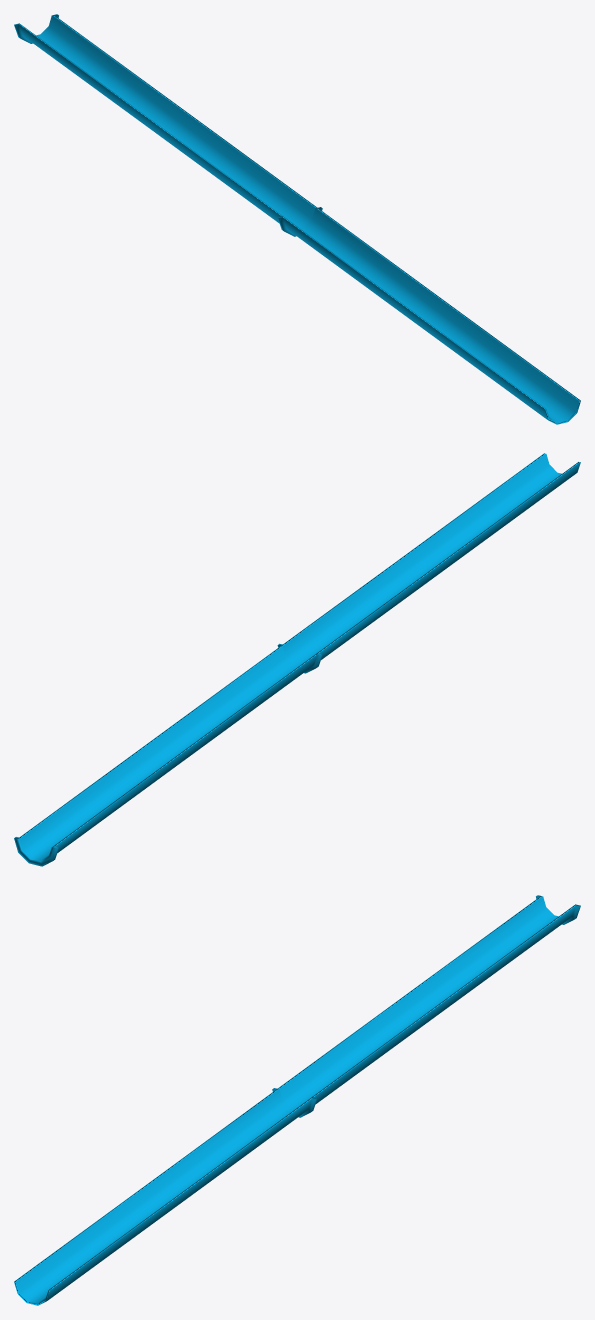
The model's file is Gutter_03.fbx.
3 renders of one model, top to bottom at view 1: azimuth 30°, elevation 25°; view 2: azimuth 150°, elevation 25°; view 3: azimuth 330°, elevation 25°, orthographic.
Visible parts, largest first — view 1: Gutter_03; view 2: Gutter_03; view 3: Gutter_03.
Boxes of the visible parts, x1,y1,x2,y2 form: Gutter_03: [14, 14, 580, 424]; Gutter_03: [14, 453, 580, 866]; Gutter_03: [14, 895, 580, 1305].
Bounding box in the file's own units: 14.26 × 6.82 × 301.
